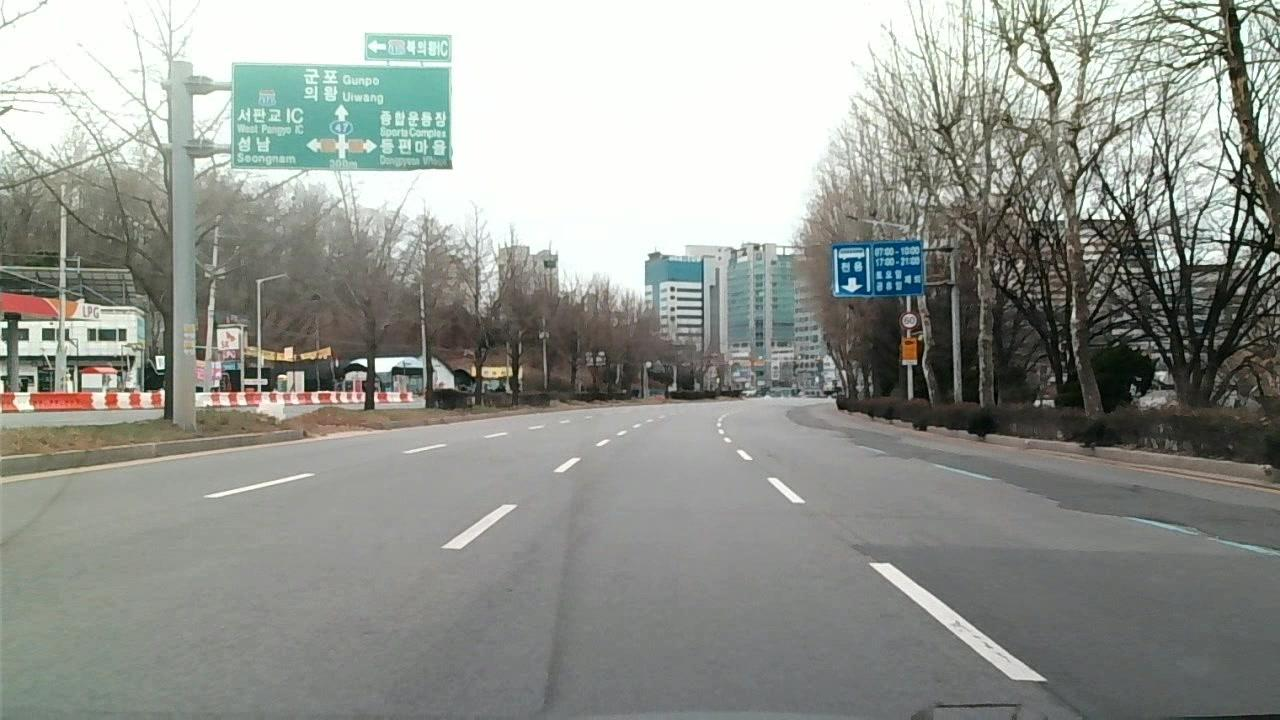vcrack: (1041, 679, 1088, 720), (1212, 535, 1277, 556), (1008, 480, 1060, 502), (1062, 506, 1136, 519), (1143, 517, 1203, 529), (958, 467, 1004, 480), (854, 443, 882, 452), (901, 455, 930, 463), (934, 462, 955, 470)
